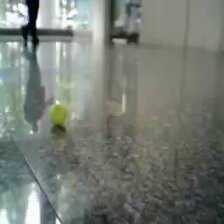tennis: (50, 105, 66, 125)
